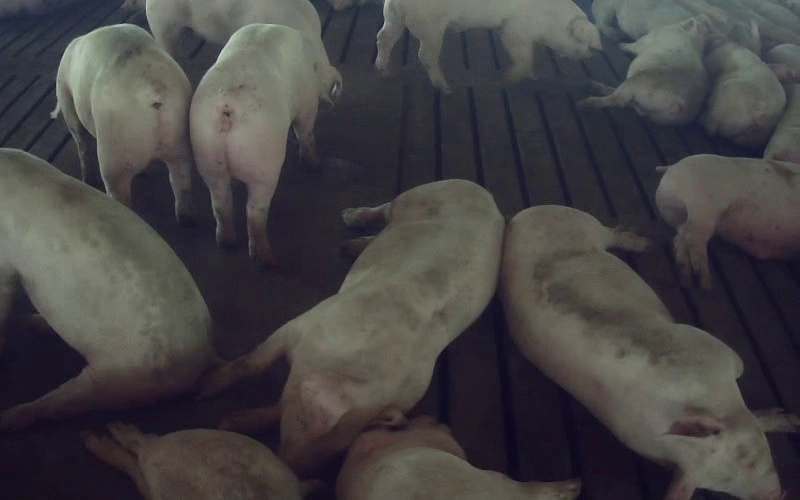pig: (204, 180, 503, 474), (501, 206, 799, 499), (190, 24, 320, 264), (376, 0, 600, 91), (147, 0, 340, 101), (656, 154, 799, 286), (83, 423, 301, 499), (581, 17, 708, 124), (702, 26, 785, 146)
